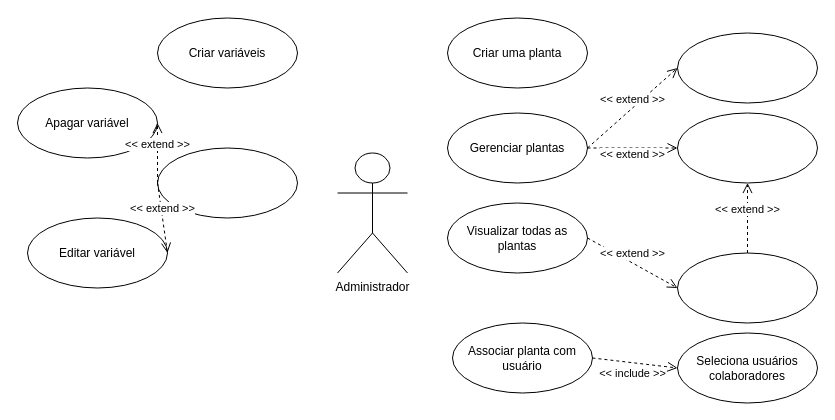
Image size: 835x420. Some labels were removed from this diagram. The shapes that lost their labels are listed below. From the top down, each one's centre as x and y in pixels, then its label:
At point 747,67: "Apagar planta".
At point 747,147: "Editar planta".
At point 227,182: "Gerenciar variáveis".
At point 747,287: "Visualizar planta".
